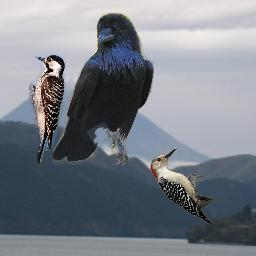Crow: (53, 12, 154, 165)
Woodpecker: (150, 147, 217, 224), (29, 52, 67, 168)
